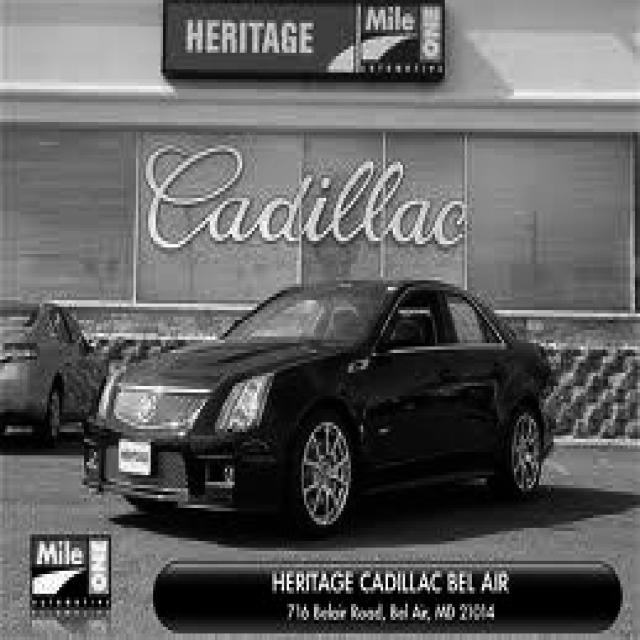car: (79, 274, 554, 534), (0, 297, 111, 445)
plat_license: (112, 421, 164, 488)
